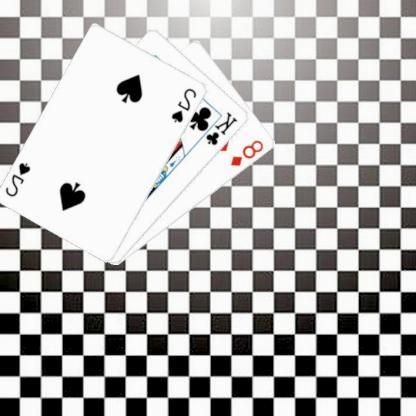2S: (170, 85, 200, 124), (5, 159, 34, 199)
8D: (230, 137, 267, 168)
KC: (197, 109, 241, 147)
